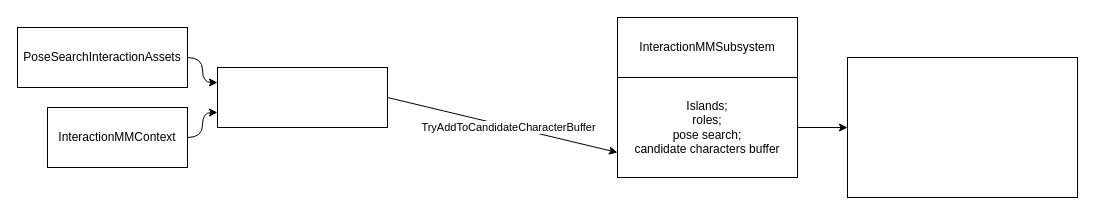
The diagram is 1095 pixels wide and 215 high, and some of its shapes have lost their labels. The shapes that lost their labels are listed below. From the top down, each one's centre as x and y in pixels, then its label:
At (302,97): "InteractionMMRequestStruct".
At (962,127): "Tick：".
